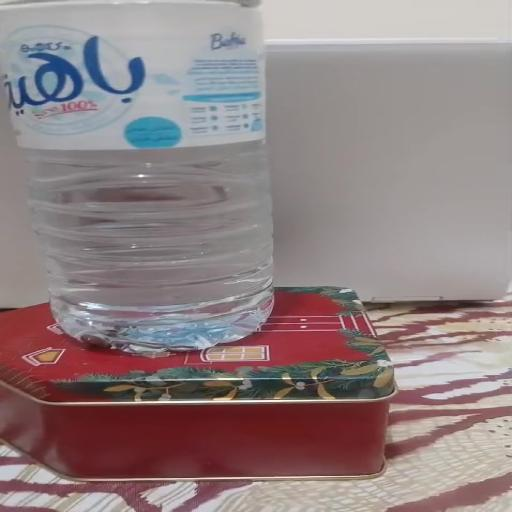bouteille conformite: (13, 11, 278, 337)
